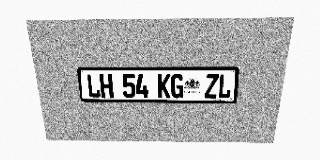4: (135, 74, 149, 98)
5: (122, 74, 136, 98)
G: (171, 74, 184, 98)
H: (99, 74, 113, 98)
K: (158, 74, 170, 98)
L: (86, 74, 101, 98), (217, 74, 232, 98)
Z: (204, 74, 219, 98)
